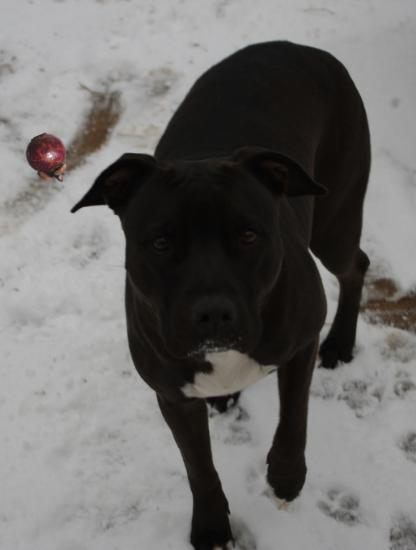Mangostan: (22, 133, 75, 186)
